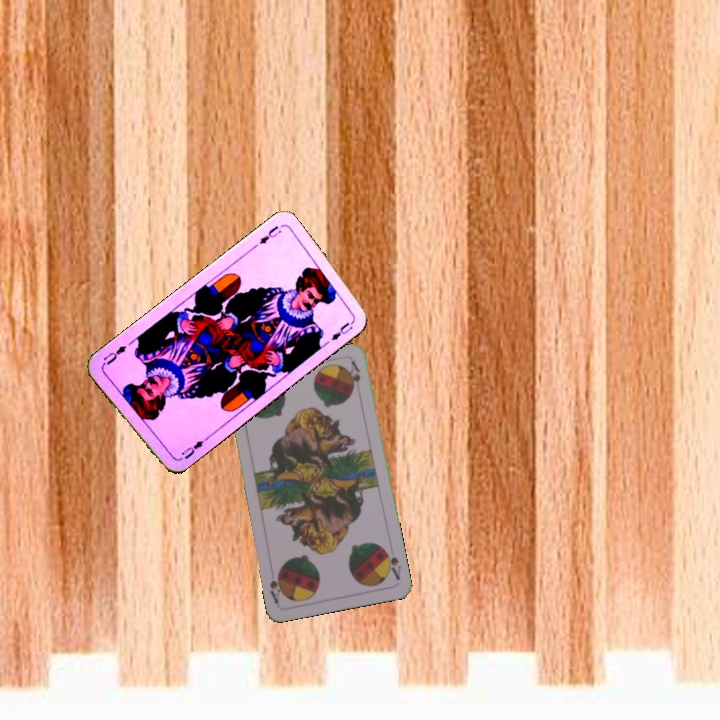EU: (173, 434, 209, 463), (255, 221, 284, 247)
SA: (380, 544, 404, 582)
